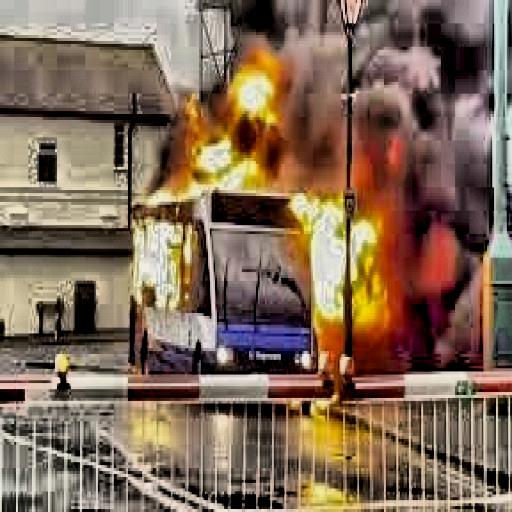fire: (134, 47, 300, 208), (284, 181, 394, 354), (123, 208, 199, 307)
